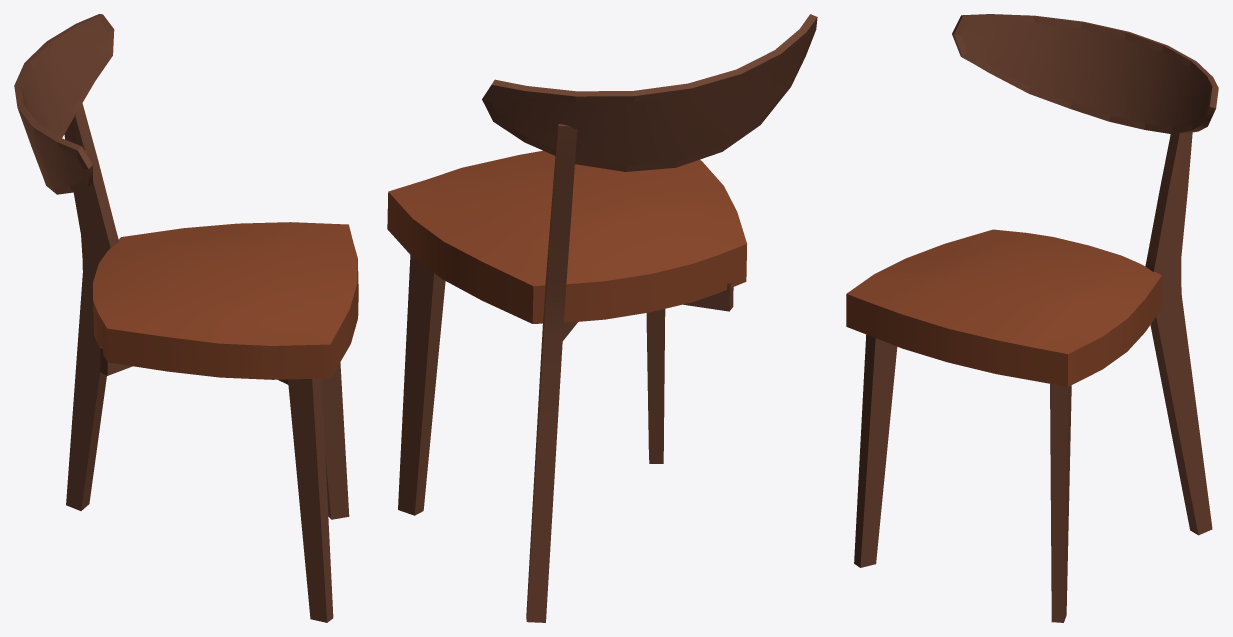
File: uploads_files_775797_Elin+Side+Chair+fbx.FBX
3 views of the same model, side by side, from view 1: azimuth 30°, elevation 25°; view 2: azimuth 150°, elevation 25°; view 3: azimuth 270°, elevation 25° (orthographic). The views are drawn at different scales.
Parts seen in each view (by area): view 1: Box009, Plane006, Box004, Box003; view 2: Box009, Plane006, Box004, Box003, Plane007; view 3: Box009, Plane006, Box003, Box004.
Part boxes in pixels (x1,y1,x2,y2): Box009: (93,222,358,379); Plane006: (14,14,114,194); Box004: (288,362,349,622); Box003: (64,103,118,510); Box009: (387,150,746,323); Plane006: (482,14,817,171); Box004: (398,255,665,515); Box003: (526,124,577,622); Plane007: (562,281,733,340); Box009: (846,229,1161,386); Plane006: (952,14,1218,133); Box003: (1145,132,1212,535); Box004: (854,334,1071,622).
Bounding box in the file's own units: 55.39 × 76.24 × 55.96.
